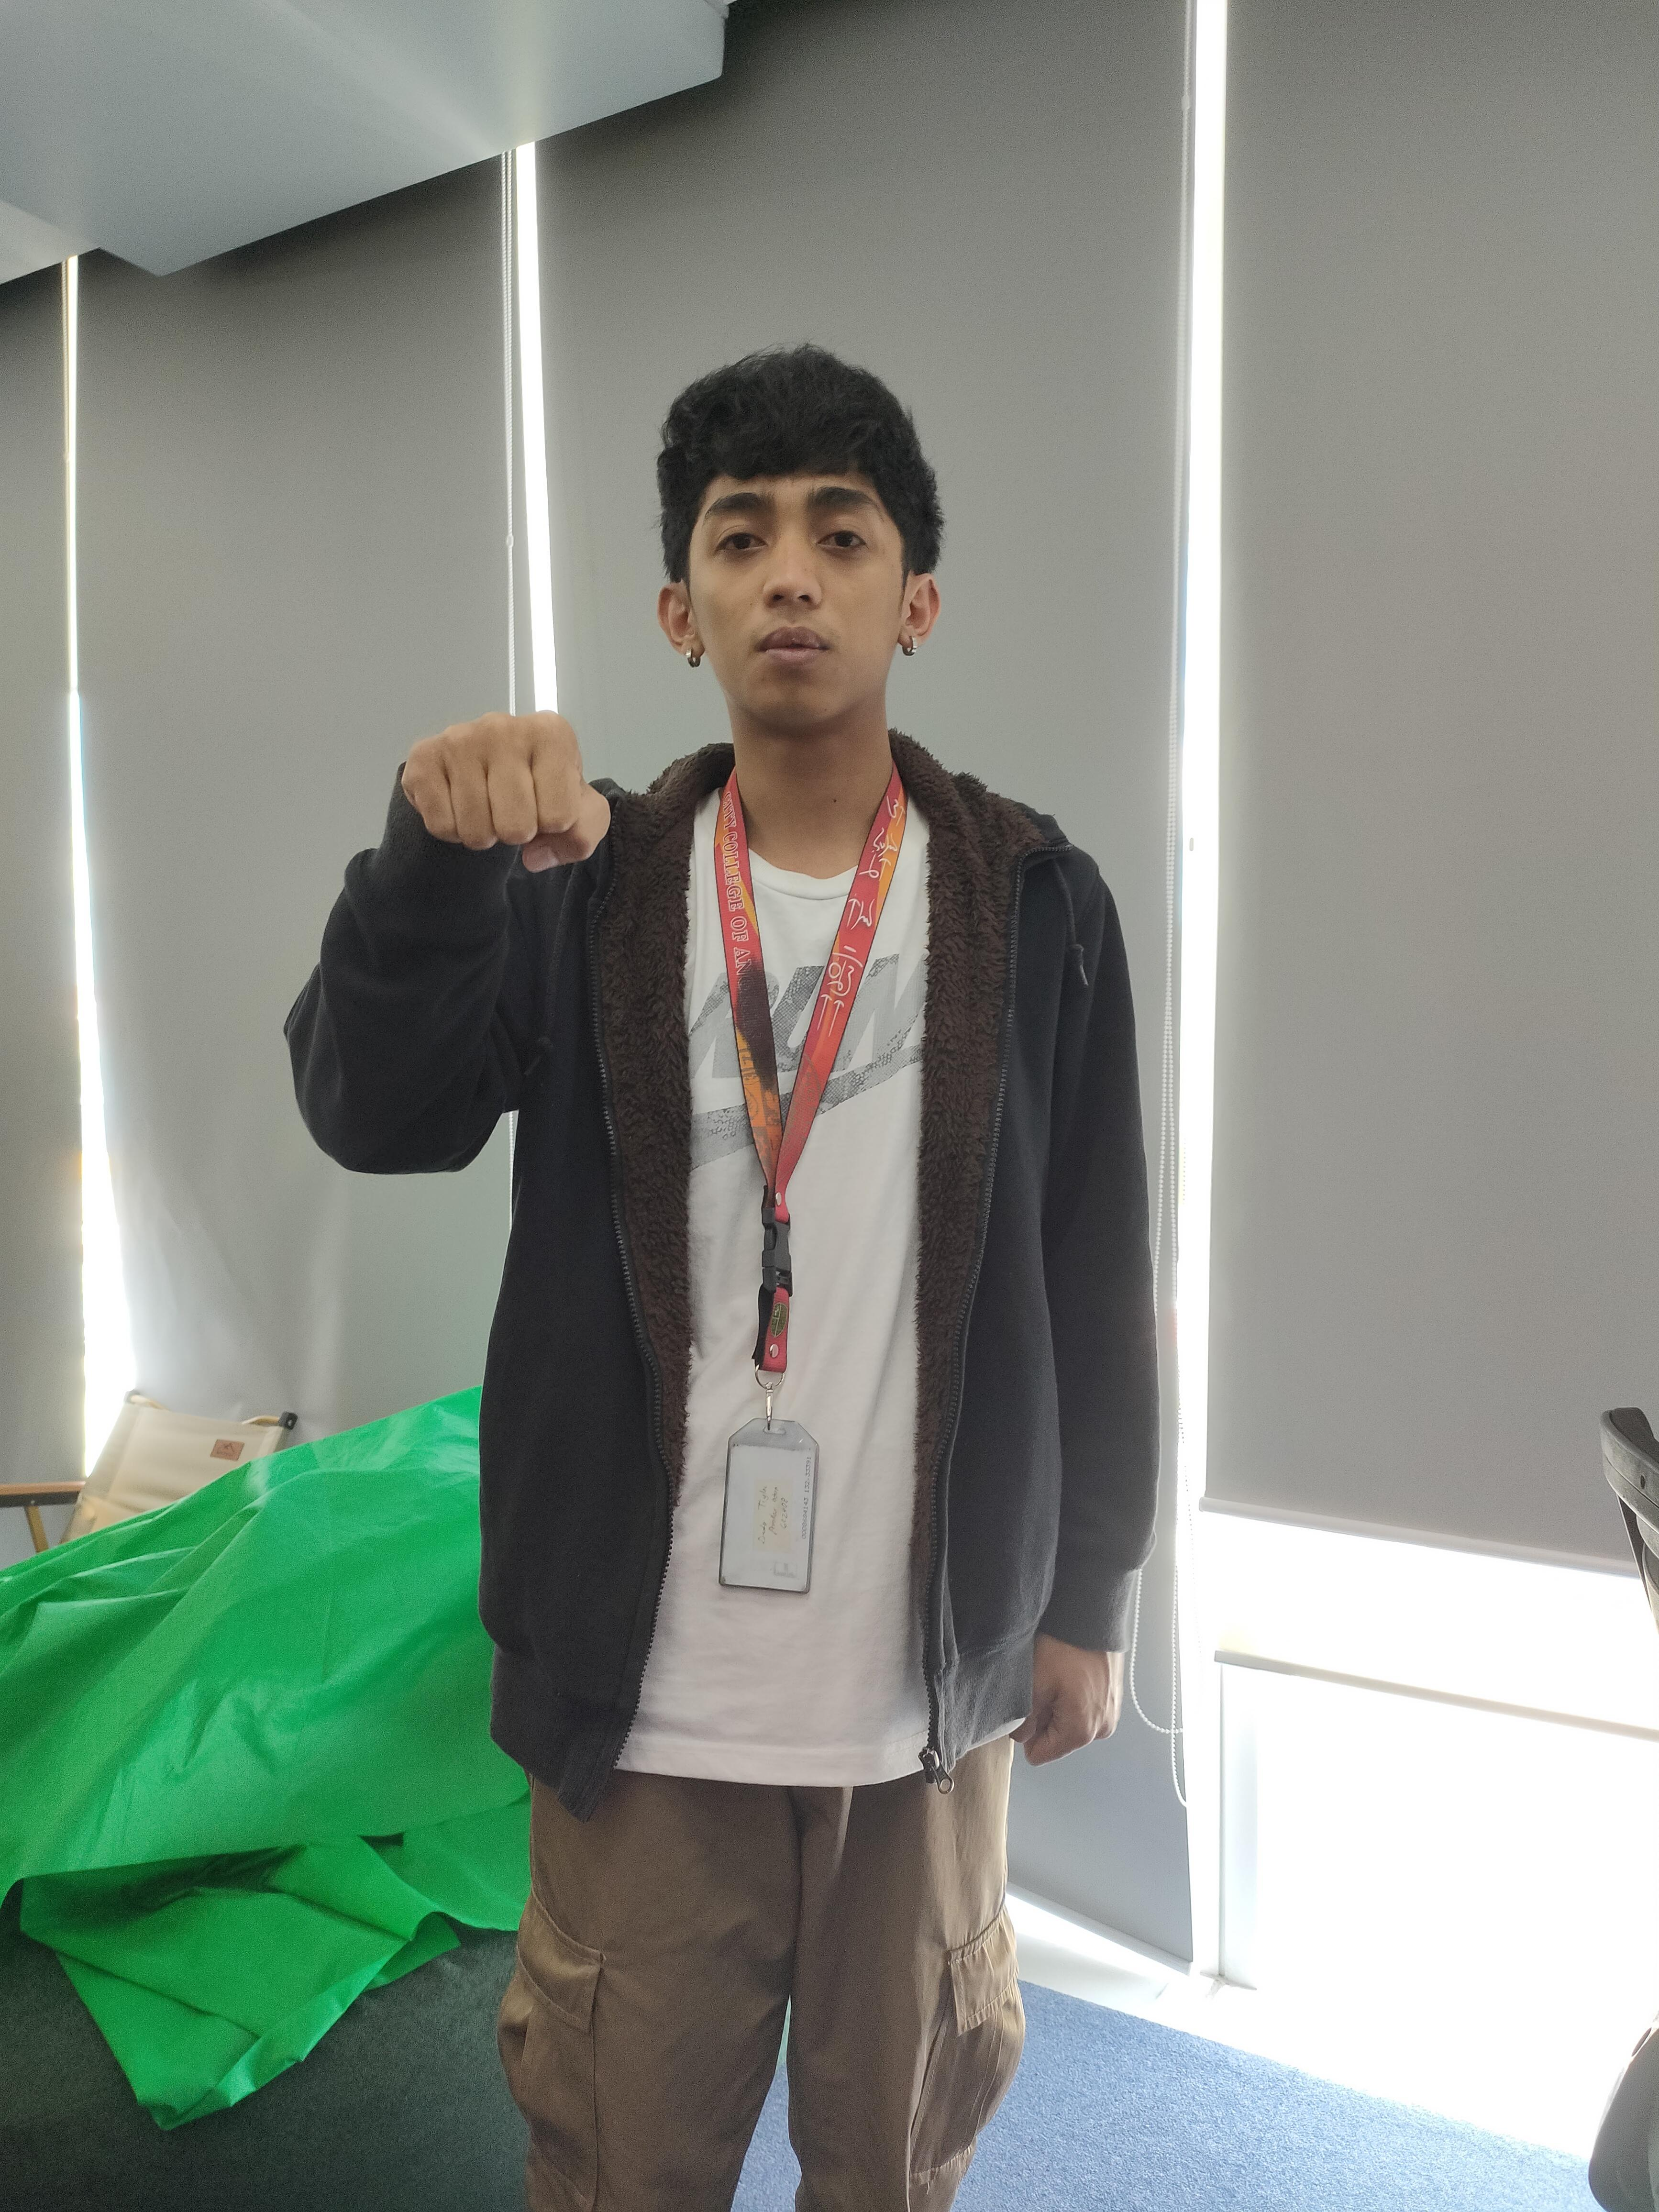Yes: (366, 711, 631, 895)
